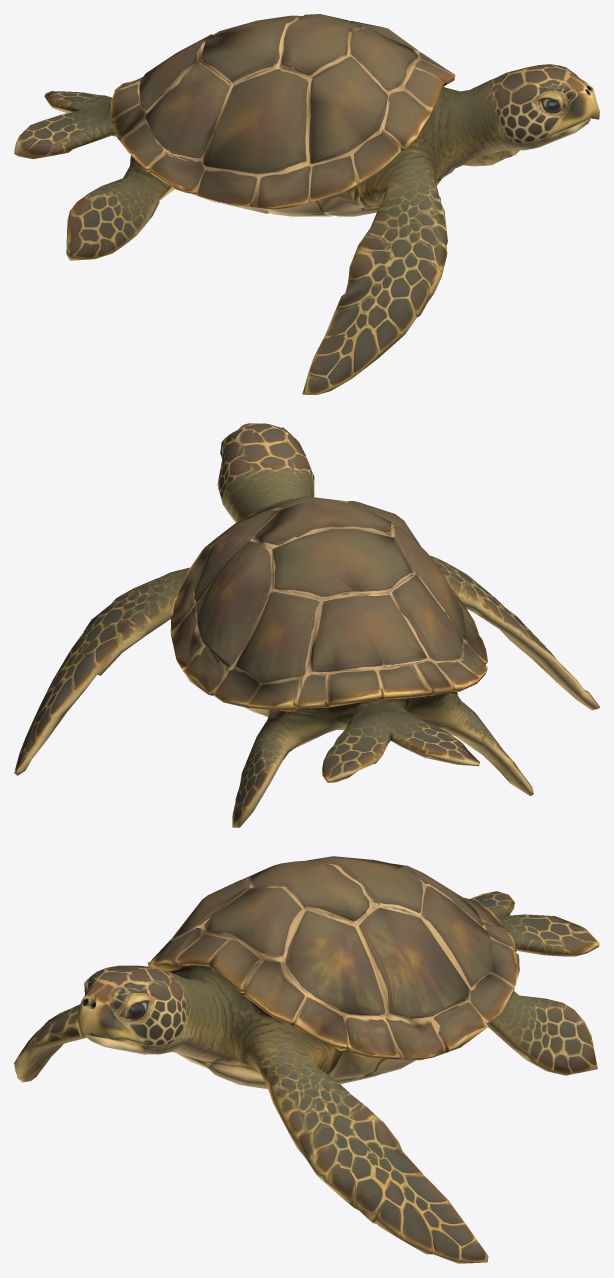
File: fauna-turtle.glb
3 renders of one model, top to bottom at view 1: azimuth 30°, elevation 25°; view 2: azimuth 150°, elevation 25°; view 3: azimuth 270°, elevation 25°, orthographic. The views are drawn at different scales.
Parts seen in each view (by area): view 1: tripo_node_d004bb86-9399-45db-b2cf-36005c0e4357; view 2: tripo_node_d004bb86-9399-45db-b2cf-36005c0e4357; view 3: tripo_node_d004bb86-9399-45db-b2cf-36005c0e4357.
Part boxes in pixels (x1,y1,x2,y2): tripo_node_d004bb86-9399-45db-b2cf-36005c0e4357: (14,14,599,394); tripo_node_d004bb86-9399-45db-b2cf-36005c0e4357: (14,423,599,827); tripo_node_d004bb86-9399-45db-b2cf-36005c0e4357: (14,856,599,1263).
Size of the model in its own units: 1 by 0.5207 by 0.9978.
1 material, 1 textured.
